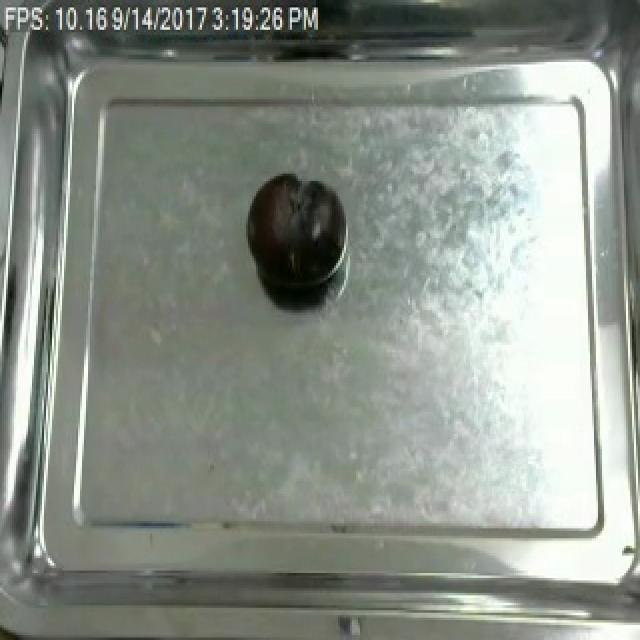Fruit: (242, 168, 344, 302)
